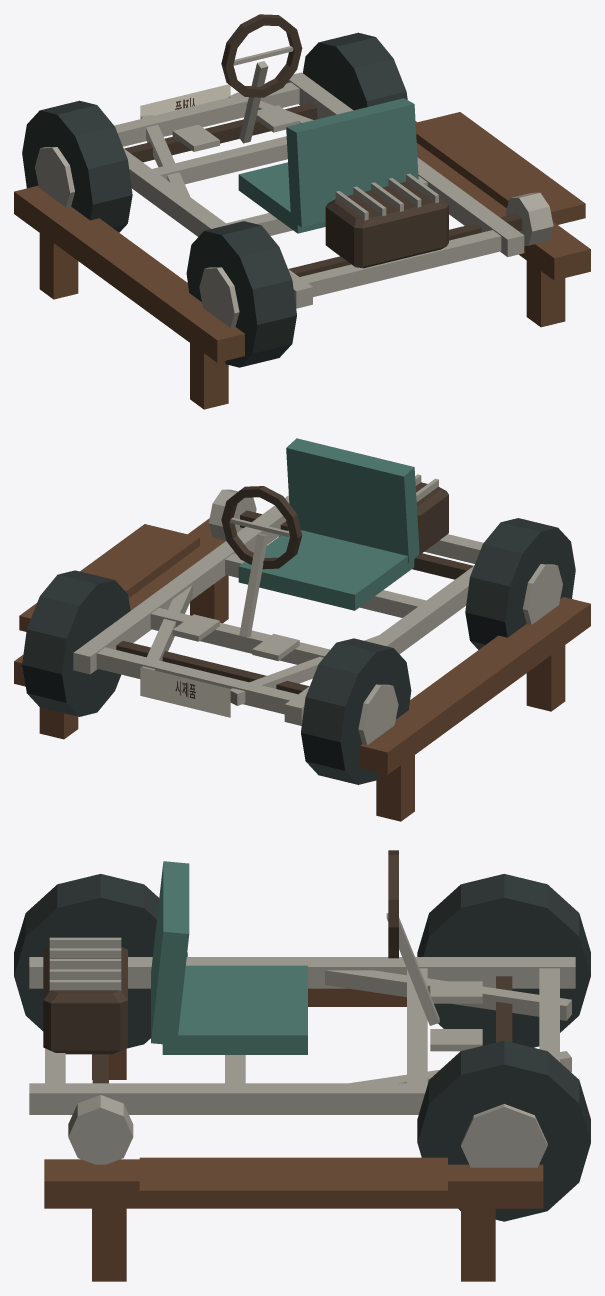
File: S09_Prototype_Kart_Frame.fbx
3 renders of one model, top to bottom at view 1: azimuth 30°, elevation 25°; view 2: azimuth 150°, elevation 25°; view 3: azimuth 270°, elevation 25°, orthographic. The views are drawn at different scales.
Parts seen in each view (by area): view 1: Structure, Frame, Wheel_RL, Wheel_FL, Wheel_FR; view 2: Structure, Frame, Wheel_FL, Wheel_FR, Wheel_RL; view 3: Structure, Frame, Wheel_FR, Wheel_FL, Wheel_RL.
Part boxes in pixels (x1,y1,x2,y2): Structure: (14, 14, 590, 409); Frame: (114, 72, 524, 308); Wheel_RL: (186, 221, 296, 367); Wheel_FL: (22, 100, 132, 232); Wheel_FR: (303, 32, 407, 110); Structure: (14, 438, 590, 821); Frame: (73, 495, 483, 725); Wheel_FL: (301, 638, 411, 784); Wheel_FR: (22, 570, 130, 716); Wheel_RL: (465, 518, 575, 649); Structure: (43, 850, 543, 1281); Frame: (29, 957, 575, 1114); Wheel_FR: (417, 1040, 590, 1221); Wheel_FL: (417, 874, 590, 1047); Wheel_RL: (14, 874, 187, 1048).
Bounding box in the file's own units: 2.66 × 1.62 × 2.66.
6 materials, 1 textured.
